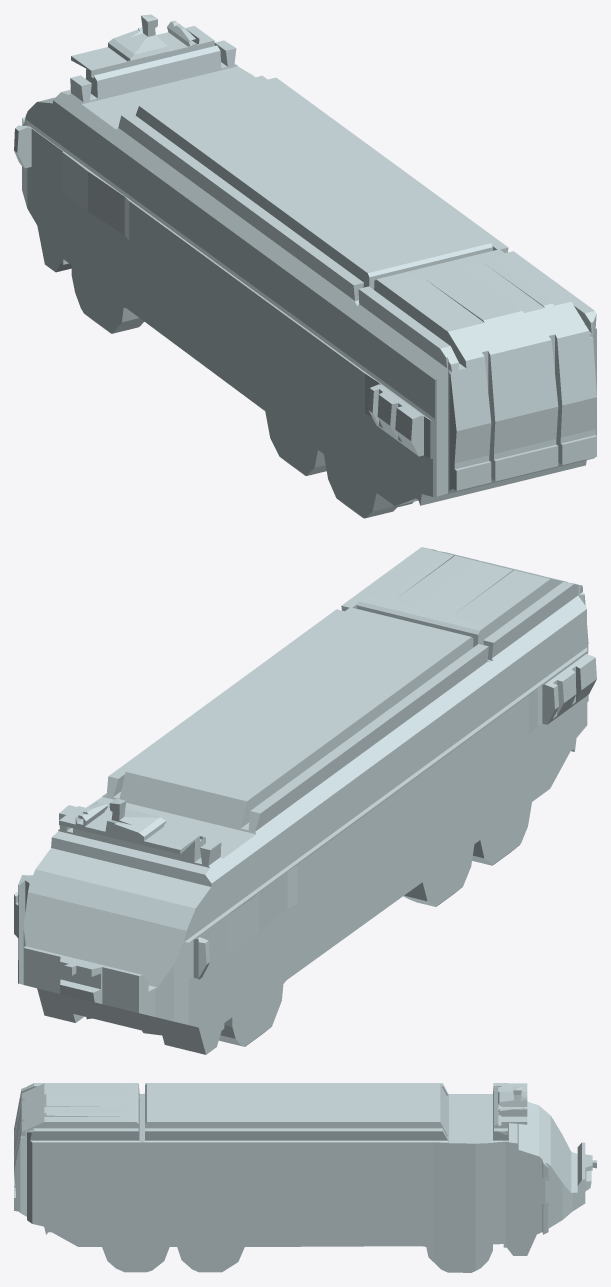
Rendered from SERV.glb.
3 renders of one model, top to bottom at view 1: azimuth 30°, elevation 25°; view 2: azimuth 150°, elevation 25°; view 3: azimuth 270°, elevation 25°, orthographic. The views are drawn at different scales.
Parts seen in each view (by area): view 1: Aircraft visual hull; view 2: Aircraft visual hull; view 3: Aircraft visual hull.
Part boxes in pixels (x1,y1,x2,y2): Aircraft visual hull: (14, 14, 596, 518); Aircraft visual hull: (14, 547, 596, 1054); Aircraft visual hull: (14, 1083, 596, 1272).
Bounding box in the file's own units: 3 × 3.7 × 12.
